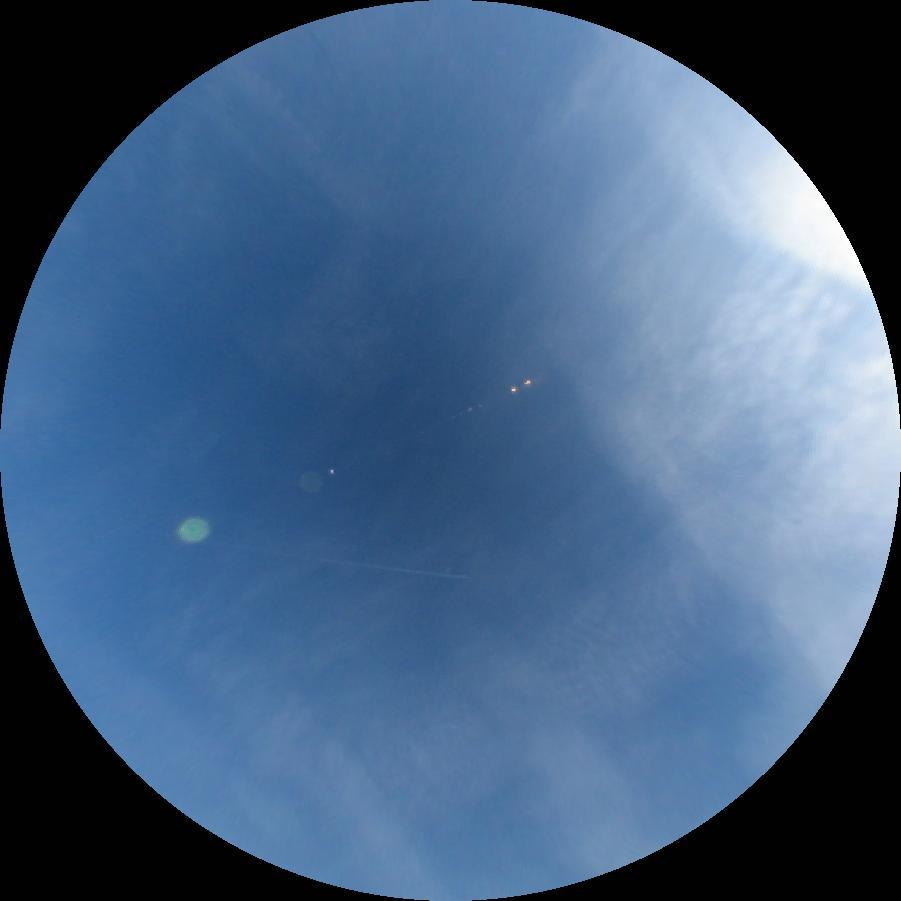contrail young: (230, 544, 472, 581)
